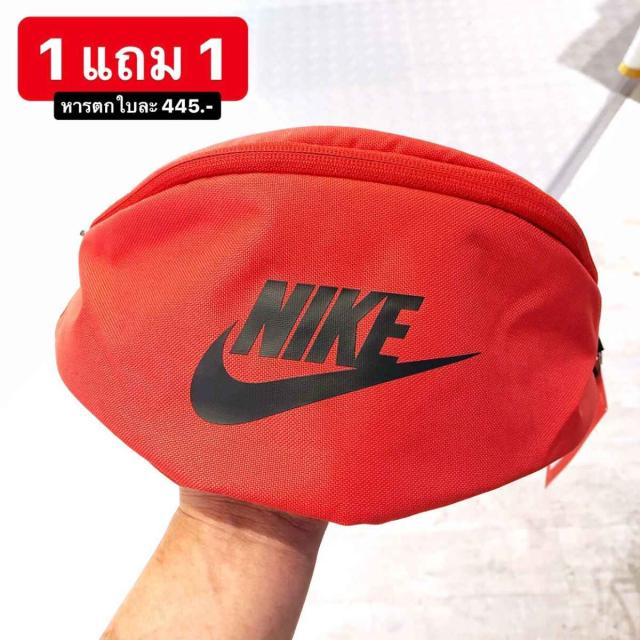Handbag: (45, 119, 616, 529)
